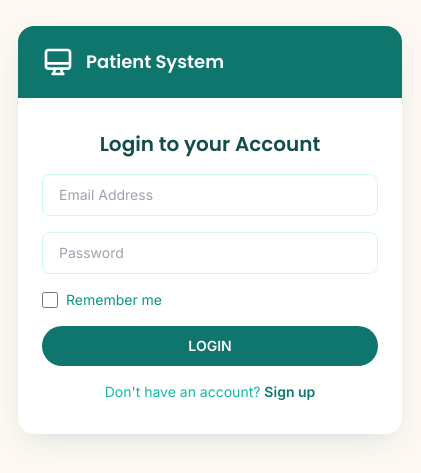
Login page › shows an error for an invalid email format
Type "not-an-email" into the field with placeholder "Email Address" at (210, 195), box [42,174,378,216]
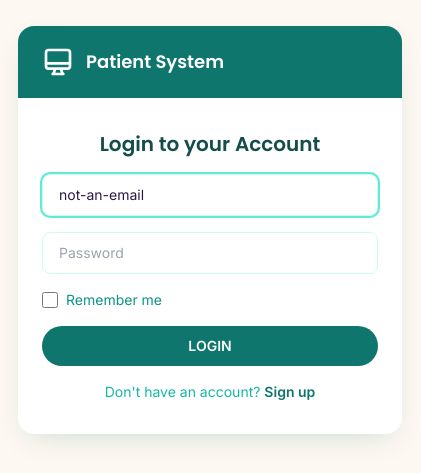
Type "validpass123" into the password field with placeholder "Password" at (210, 253), box [42,232,378,274]
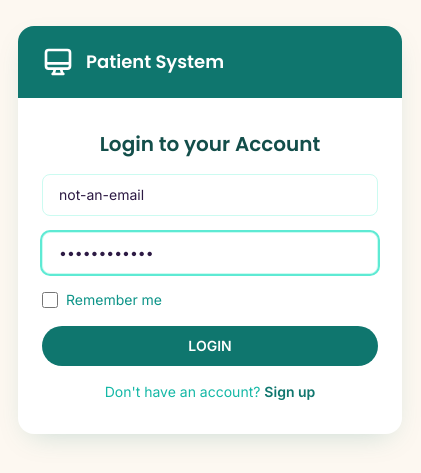
Click the button "LOGIN" at (210, 346), box [42,326,378,366]
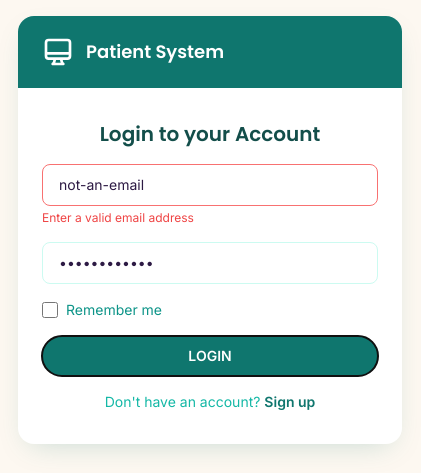
Check: the text "Enter a valid email address" is shown, box [42,210,194,225]
